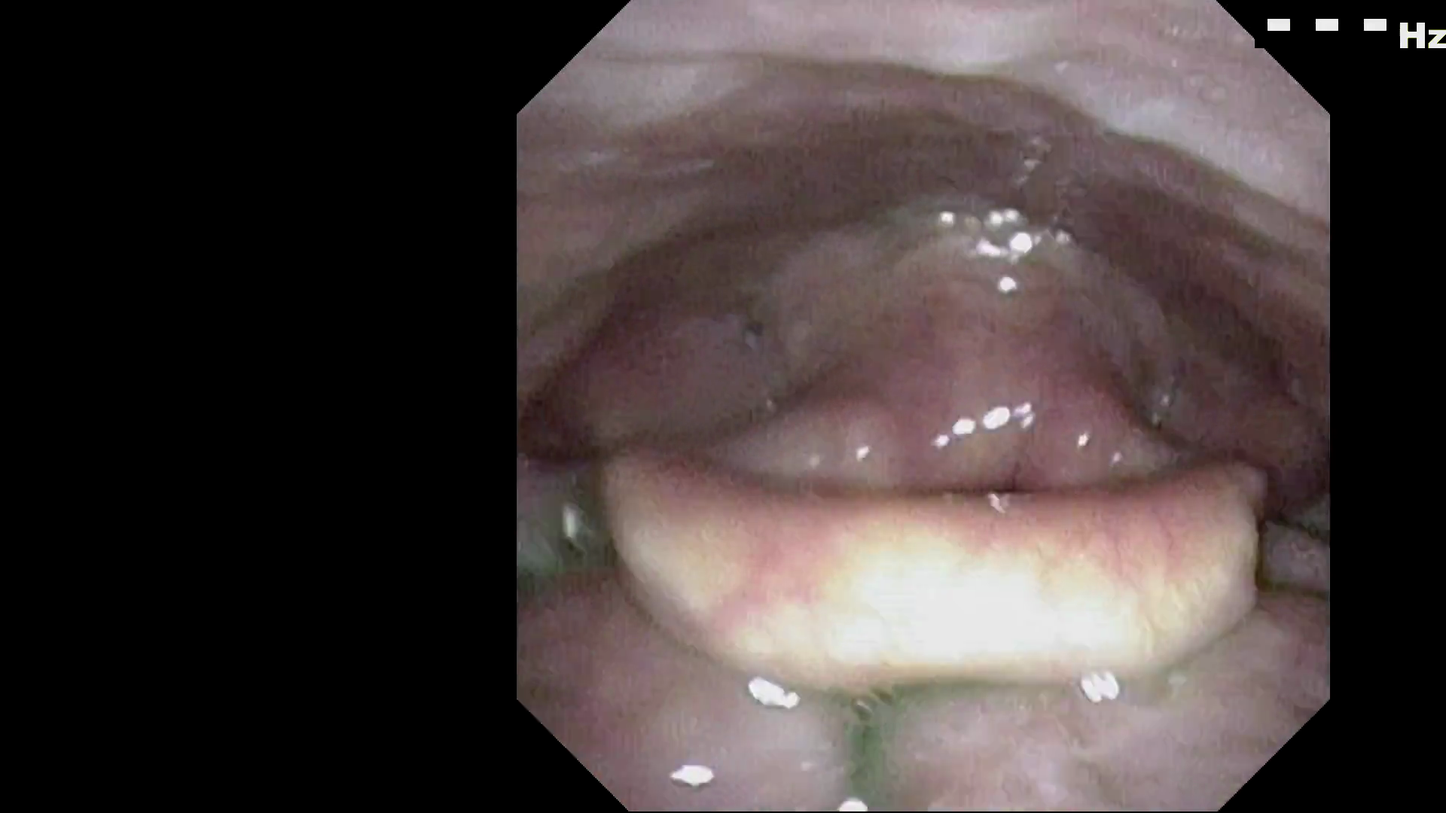epiglottis: (547, 482, 1310, 774)
trachea: (867, 423, 1041, 626)
